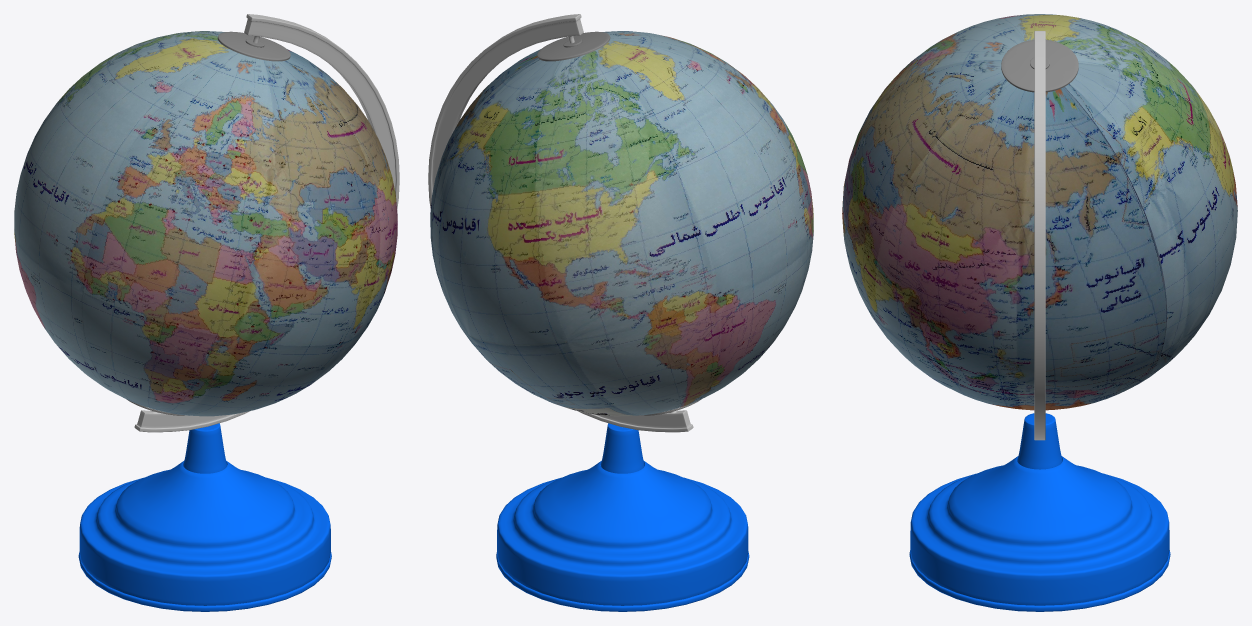
3 renders of one model, left to right at view 1: azimuth 30°, elevation 25°; view 2: azimuth 150°, elevation 25°; view 3: azimuth 270°, elevation 25°, orthographic. The views are drawn at different scales.
Parts seen in each view (by area): view 1: Object01, Globe02; view 2: Object01, Globe02; view 3: Object01, Globe02.
Part boxes in pixels (x1,y1,x2,y2): Object01: (14,31,397,416); Globe02: (78,14,399,611); Object01: (430,31,813,416); Globe02: (428,14,749,611); Object01: (842,14,1237,410); Globe02: (909,31,1170,611).
Size of the model in its own units: 178 by 253 by 165.
4 materials, 1 textured.
